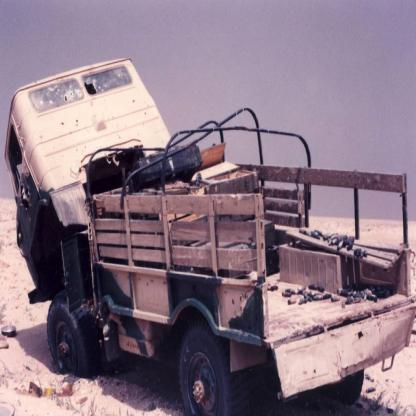Truck: (20, 67, 406, 403)
